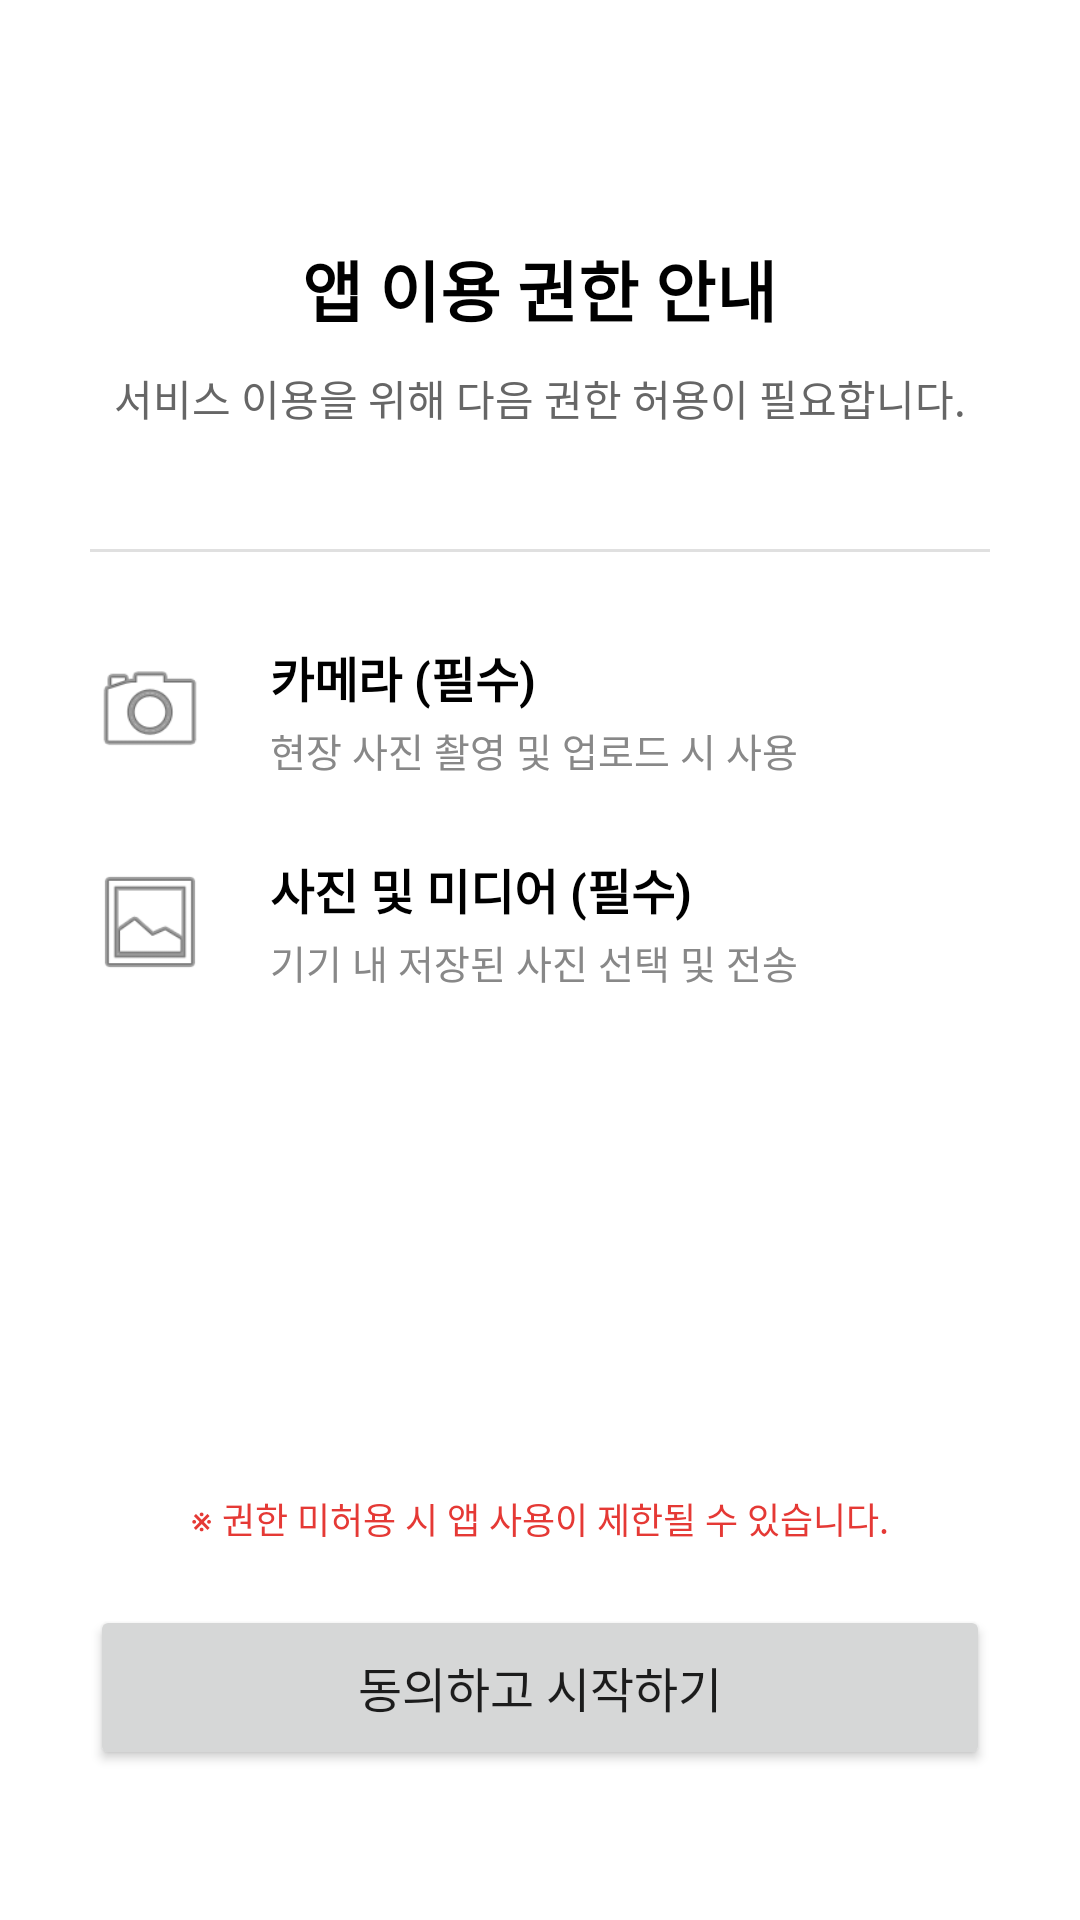

Icons on this 1080 x 1920 Android screen, each with the point to tap as (x,y):
camera: (150,708)
gallery: (150,922)
